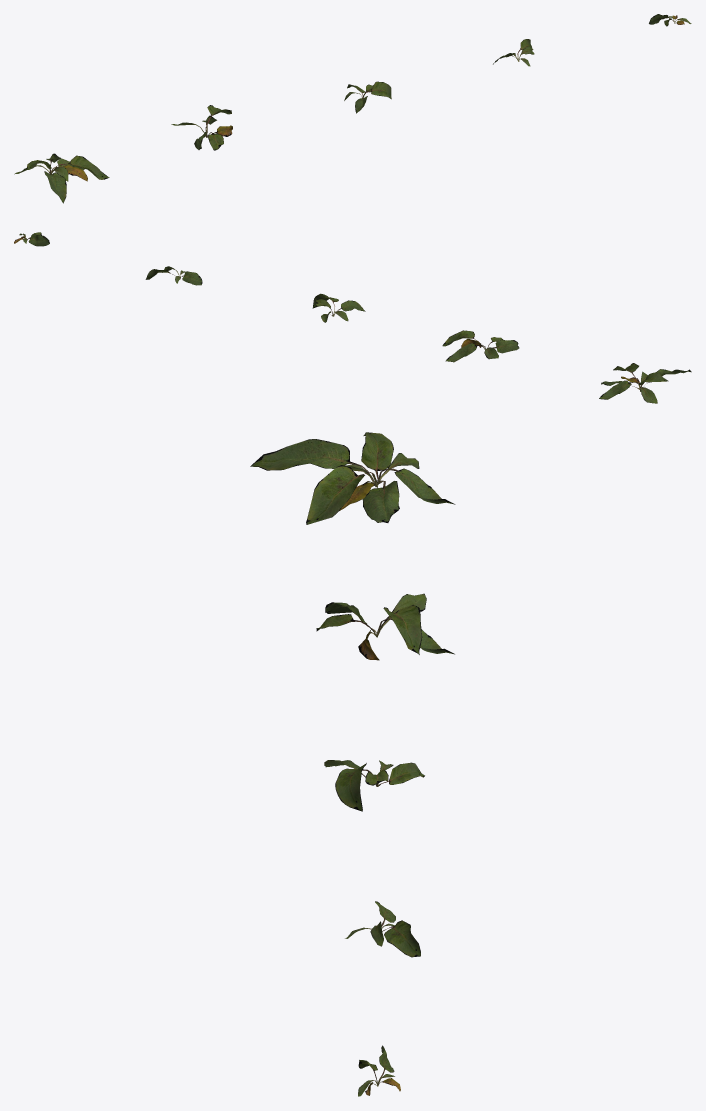
Rendered from weed_plant_02.glb.
3 views of the same model, one above another, from view 1: azimuth 30°, elevation 25°; view 2: azimuth 150°, elevation 25°; view 3: azimuth 270°, elevation 25° (orthographic). The views are drawn at different scales.
Visible parts, largest first — view 1: weed_plant_02_a_LOD0, weed_plant_02_b_LOD0, weed_plant_02_c_LOD0, weed_plant_02_d_LOD0; view 2: weed_plant_02_a_LOD0, weed_plant_02_b_LOD0, weed_plant_02_c_LOD0, weed_plant_02_d_LOD0, weed_plant_02_e_LOD0; view 3: weed_plant_02_a_LOD0, weed_plant_02_b_LOD0, weed_plant_02_c_LOD0, weed_plant_02_d_LOD0.
Part boxes in pixels (bbox=[...]): weed_plant_02_a_LOD0: bbox=[14, 153, 109, 203]; weed_plant_02_b_LOD0: bbox=[171, 105, 232, 150]; weed_plant_02_c_LOD0: bbox=[344, 81, 391, 113]; weed_plant_02_d_LOD0: bbox=[493, 39, 534, 66]; weed_plant_02_a_LOD0: bbox=[599, 363, 691, 403]; weed_plant_02_b_LOD0: bbox=[442, 330, 519, 362]; weed_plant_02_c_LOD0: bbox=[312, 293, 365, 322]; weed_plant_02_d_LOD0: bbox=[145, 266, 202, 285]; weed_plant_02_e_LOD0: bbox=[14, 232, 49, 246]; weed_plant_02_a_LOD0: bbox=[250, 432, 455, 524]; weed_plant_02_b_LOD0: bbox=[316, 593, 454, 660]; weed_plant_02_c_LOD0: bbox=[324, 760, 424, 811]; weed_plant_02_d_LOD0: bbox=[345, 901, 420, 957].
Bounding box in the file's own units: 2.13 × 0.0747 × 0.2909.
Materials: 1 (1 with a texture image).
